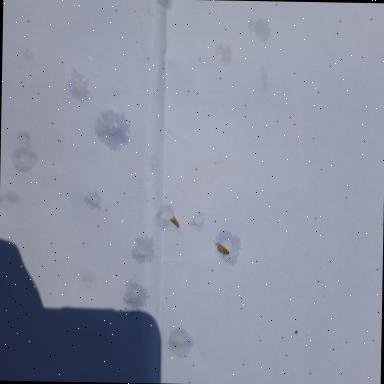pbw: (213, 240, 230, 256), (170, 215, 182, 230)
